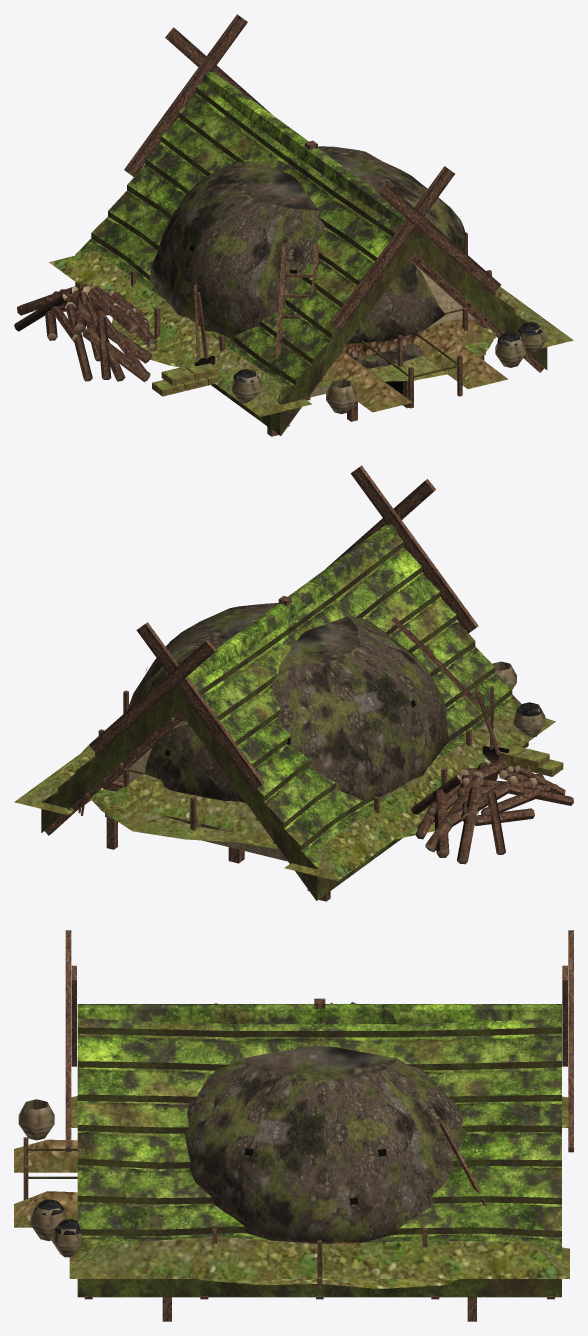
The model's file is construction-moss.glb.
3 views of the same model, one above another, from view 1: azimuth 30°, elevation 25°; view 2: azimuth 150°, elevation 25°; view 3: azimuth 270°, elevation 25° (orthographic). The views are drawn at different scales.
Parts seen in each view (by area): view 1: uhlir-berms, uhlir-ridge, milir-cover-3, uhlir-wood, milir-cover-2, milir-cover-1, uhlir-thatch-7, uhlir-thatch-3, uhlir-thatch-6, uhlir-thatch-2, uhlir-thatch-4, milir-tools (+11 smaller); view 2: uhlir-berms, uhlir-ridge, milir-cover-3, milir-cover-2, milir-cover-1, uhlir-wood, uhlir-thatch-7, uhlir-thatch-6, uhlir-thatch-3, uhlir-thatch-2, uhlir-thatch-4, uhlir-thatch-5 (+9 smaller); view 3: uhlir-berms, milir-cover-2, milir-cover-3, uhlir-thatch-7, uhlir-ridge, uhlir-thatch-1, milir-cover-1, uhlir-thatch-2, uhlir-thatch-6, uhlir-thatch-3, uhlir-thatch-4, uhlir-thatch-5 (+7 smaller).
Boxes of the visible parts, bbox=[...] form: uhlir-berms: bbox=[49, 250, 573, 416]; uhlir-ridge: bbox=[124, 14, 500, 328]; milir-cover-3: bbox=[189, 146, 439, 257]; uhlir-wood: bbox=[14, 284, 356, 413]; milir-cover-2: bbox=[162, 181, 463, 305]; milir-cover-1: bbox=[150, 227, 465, 343]; uhlir-thatch-7: bbox=[179, 87, 443, 293]; uhlir-thatch-3: bbox=[108, 185, 514, 390]; uhlir-thatch-6: bbox=[161, 112, 461, 317]; uhlir-thatch-2: bbox=[91, 211, 531, 413]; uhlir-thatch-4: bbox=[127, 159, 495, 364]; milir-tools: bbox=[152, 243, 318, 403]; uhlir-berms: bbox=[14, 706, 555, 881]; uhlir-ridge: bbox=[89, 465, 478, 790]; milir-cover-3: bbox=[154, 603, 416, 719]; milir-cover-2: bbox=[136, 638, 443, 767]; milir-cover-1: bbox=[128, 686, 448, 803]; uhlir-wood: bbox=[410, 661, 573, 864]; uhlir-thatch-7: bbox=[148, 541, 421, 753]; uhlir-thatch-6: bbox=[130, 567, 439, 777]; uhlir-thatch-3: bbox=[75, 641, 494, 853]; uhlir-thatch-2: bbox=[58, 667, 511, 877]; uhlir-thatch-4: bbox=[95, 615, 474, 826]; uhlir-thatch-5: bbox=[113, 592, 456, 800]; uhlir-berms: bbox=[14, 1096, 569, 1278]; milir-cover-2: bbox=[184, 1105, 467, 1195]; milir-cover-3: bbox=[189, 1058, 456, 1138]; uhlir-thatch-7: bbox=[77, 1027, 561, 1064]; uhlir-ridge: bbox=[65, 930, 573, 1152]; uhlir-thatch-1: bbox=[77, 1226, 561, 1297]; milir-cover-1: bbox=[189, 1167, 453, 1242]; uhlir-thatch-2: bbox=[77, 1195, 561, 1230]; uhlir-thatch-6: bbox=[77, 1061, 561, 1096]; uhlir-thatch-3: bbox=[77, 1158, 561, 1198]; uhlir-thatch-4: bbox=[77, 1125, 561, 1162]; uhlir-thatch-5: bbox=[77, 1094, 561, 1127].
Bounding box in the file's own units: 7.22 × 4.34 × 7.05.
1 material, 1 textured.
